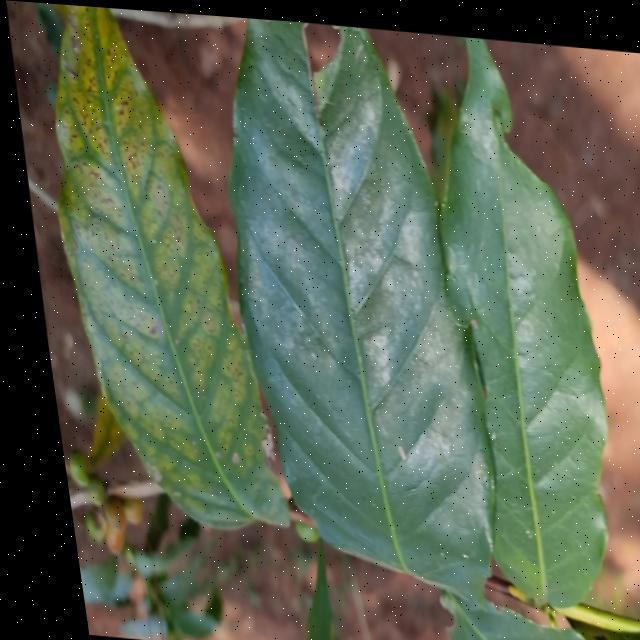leaves: (173, 0, 515, 626), (3, 0, 276, 553), (404, 19, 622, 608)
